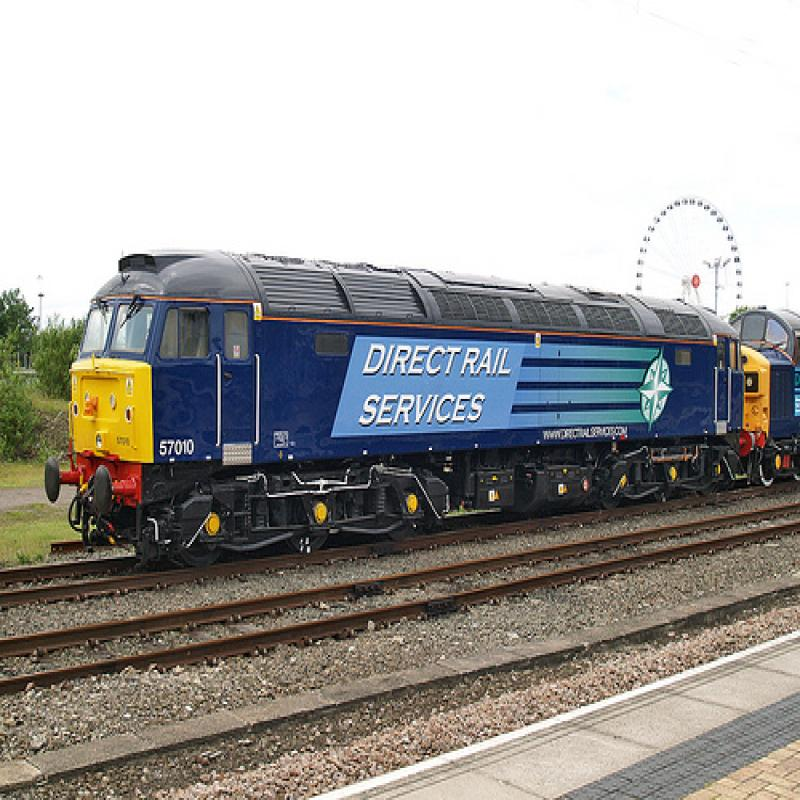train: (43, 244, 800, 562)
